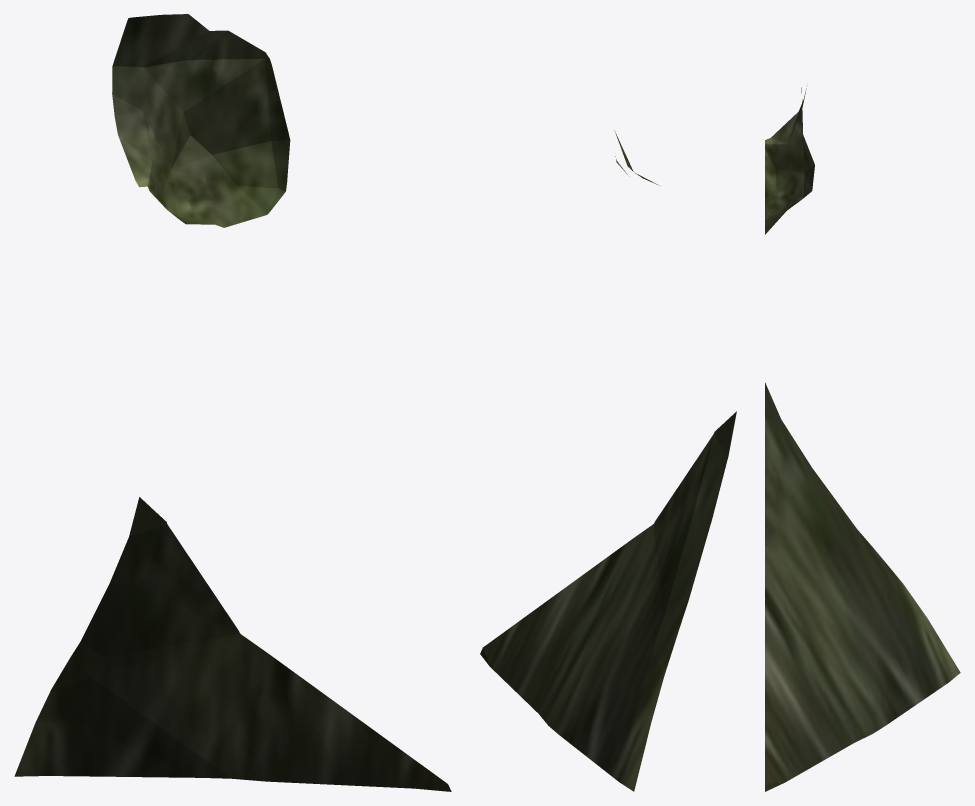
3 renders of one model, left to right at view 1: azimuth 30°, elevation 25°; view 2: azimuth 150°, elevation 25°; view 3: azimuth 270°, elevation 25°, orthographic. The views are drawn at different scales.
Size of the model in its own units: 1.14 by 2.95 by 0.7942.
Materials: 1 (1 with a texture image).
